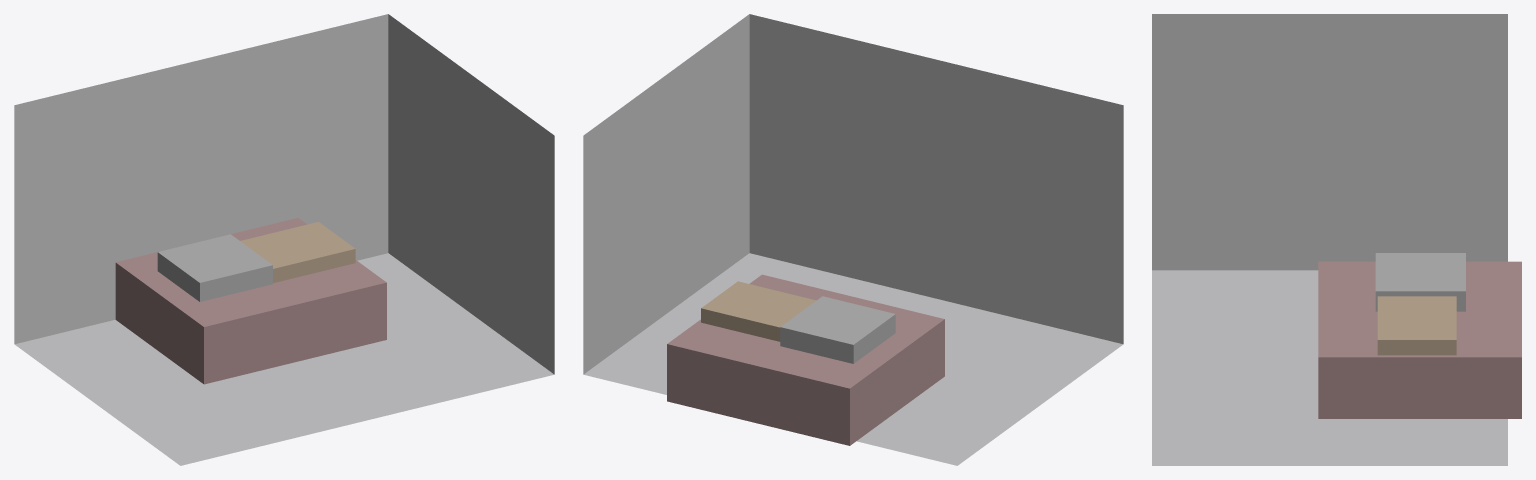
The model's file is optimised_layout.glb.
3 renders of one model, left to right at view 1: azimuth 30°, elevation 25°; view 2: azimuth 150°, elevation 25°; view 3: azimuth 270°, elevation 25°, orthographic. The views are drawn at different scales.
Visible parts, largest first — view 1: room, bed, dustbin, desk; view 2: room, bed, dustbin, desk; view 3: room, bed, desk, dustbin.
Part boxes in pixels (x1,y1,x2,y2): room: (14, 14, 554, 465); bed: (115, 218, 386, 384); dustbin: (157, 234, 272, 301); desk: (240, 222, 355, 283); room: (583, 14, 1123, 465); bed: (667, 274, 944, 445); dustbin: (780, 296, 895, 363); desk: (701, 281, 816, 341); room: (1152, 14, 1507, 465); bed: (1318, 261, 1521, 418); desk: (1377, 296, 1456, 355); dustbin: (1375, 253, 1465, 311).
Size of the model in its own units: 4.09 by 2.5 by 3.27.
